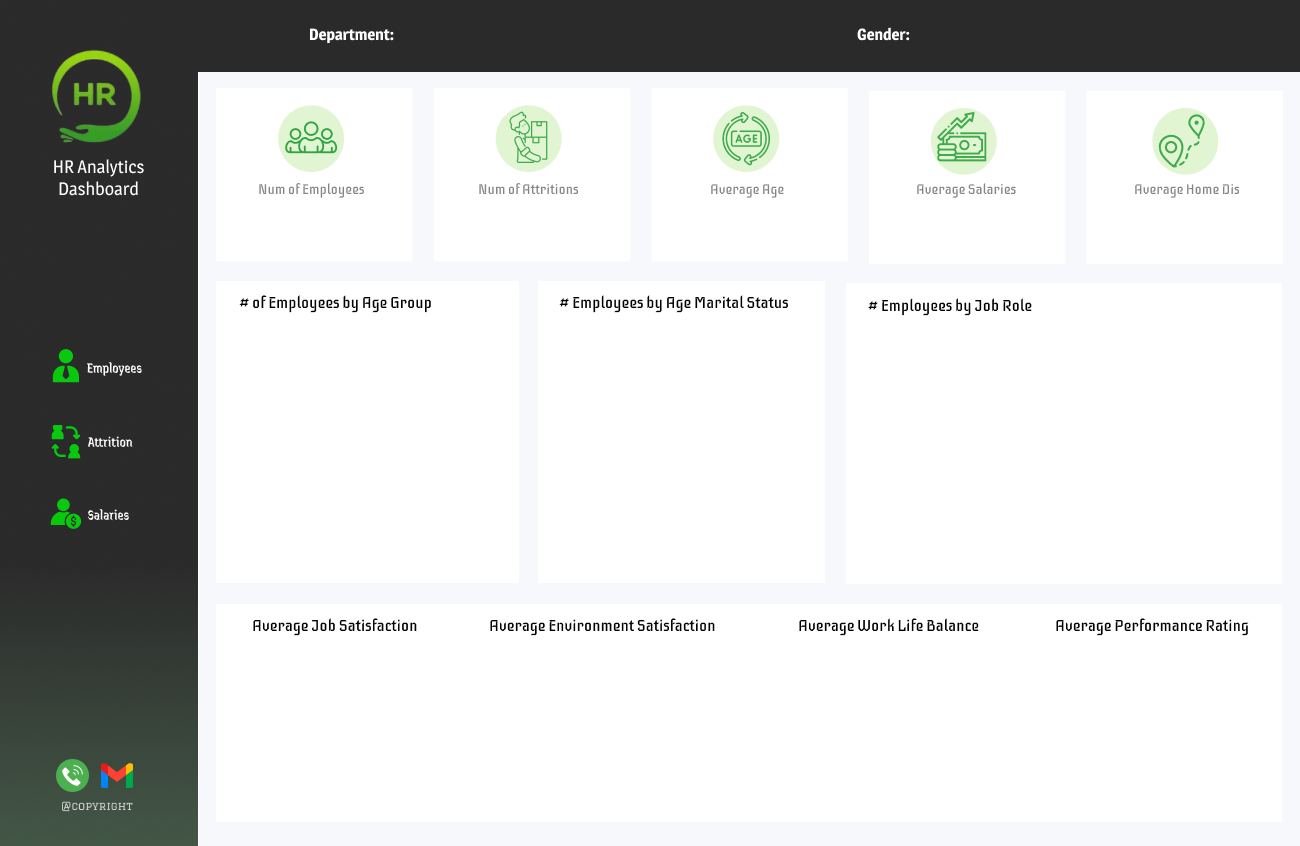

The dashboard page shown, as its layout file describes it:
{"tool":"powerbi","page":{"name":"Employee","canvas":[1300,900],"ordinal":0},"visuals":[{"type":"card","fields":{"Values":["All measures.# of Employees"]},"box":[262.4,230.7,81.4,37.7],"z":0},{"type":"card","fields":{"Values":["All measures.# of Attritions"]},"box":[475,232.2,101,37.7],"z":1000},{"type":"clusteredColumnChart","fields":{"Category":["HR_Employee_Attrition.Age Group"],"Y":["All measures.# of Employees"]},"box":[223.2,343.8,279,256.4],"z":2000},{"type":"clusteredBarChart","fields":{"Category":["HR_Employee_Attrition.Job Role"],"Y":["All measures.# of Employees"]},"box":[840,333.3,449.4,266.9],"z":3000},{"type":"gauge","fields":{"Y":["Avg(HR_Employee_Attrition.Environment Satisfaction)"]},"box":[487.1,619.8,242.8,263.9],"z":4000},{"type":"gauge","fields":{"Y":["Avg(HR_Employee_Attrition.Job Satisfaction)"]},"box":[227.7,619.8,232.2,263.9],"z":5000},{"type":"gauge","fields":{"Y":["Avg(HR_Employee_Attrition.Performance Rating)"]},"box":[1037.5,619.8,229.2,263.9],"z":6000},{"type":"donutChart","fields":{"Category":["HR_Employee_Attrition.MaritalStatus"],"Y":["All measures.# of Employees"]},"box":[555,343.8,247.3,233.7],"z":7000},{"type":"gauge","fields":{"Y":["Avg(HR_Employee_Attrition.Work Life Balance)"]},"box":[772.1,621.3,230.7,262.4],"z":8000},{"type":"card","fields":{"Values":["All measures.Average Employees Age"]},"box":[695.2,227.7,93.5,46.7],"z":9000},{"type":"slicer","fields":{"Values":["HR_Employee_Attrition.Dep Gen"]},"box":[393.6,33.2,425.3,55.8],"z":10000},{"type":"card","fields":{"Values":["All measures.Average Salary"]},"box":[925.9,226.2,81.4,46.7],"z":11000},{"type":"card","fields":{"Values":["All measures.Average Distance"]},"box":[1143.1,224.7,82.9,46.7],"z":12000},{"type":"slicer","fields":{"Values":["HR_Employee_Attrition.Gender"]},"box":[906.3,33.2,309.2,55.8],"z":13000},{"type":"actionButton","box":[27.1,364.9,138.7,52.8],"z":14000},{"type":"actionButton","box":[27.1,440.4,138.7,52.8],"z":15000},{"type":"actionButton","box":[27.1,514.2,138.7,52.8],"z":16000}]}

Visuals, with their boxes on the page's 1300x900 design canvas (x1, y1, x2, y2). These are canvas units, not pixel positions in the 1300x846 screenshot, which may show the page scaled, cropped or inside an application window:
card - All measures.# of Employees: bbox(262, 231, 344, 268)
card - All measures.# of Attritions: bbox(475, 232, 576, 270)
clusteredColumnChart - HR_Employee_Attrition.Age Group x All measures.# of Employees: bbox(223, 344, 502, 600)
clusteredBarChart - HR_Employee_Attrition.Job Role x All measures.# of Employees: bbox(840, 333, 1289, 600)
gauge - Avg(HR_Employee_Attrition.Environment Satisfaction): bbox(487, 620, 730, 884)
gauge - Avg(HR_Employee_Attrition.Job Satisfaction): bbox(228, 620, 460, 884)
gauge - Avg(HR_Employee_Attrition.Performance Rating): bbox(1038, 620, 1267, 884)
donutChart - HR_Employee_Attrition.MaritalStatus x All measures.# of Employees: bbox(555, 344, 802, 578)
gauge - Avg(HR_Employee_Attrition.Work Life Balance): bbox(772, 621, 1003, 884)
card - All measures.Average Employees Age: bbox(695, 228, 789, 274)
slicer - HR_Employee_Attrition.Dep Gen: bbox(394, 33, 819, 89)
card - All measures.Average Salary: bbox(926, 226, 1007, 273)
card - All measures.Average Distance: bbox(1143, 225, 1226, 271)
slicer - HR_Employee_Attrition.Gender: bbox(906, 33, 1216, 89)
actionButton: bbox(27, 365, 166, 418)
actionButton: bbox(27, 440, 166, 493)
actionButton: bbox(27, 514, 166, 567)
